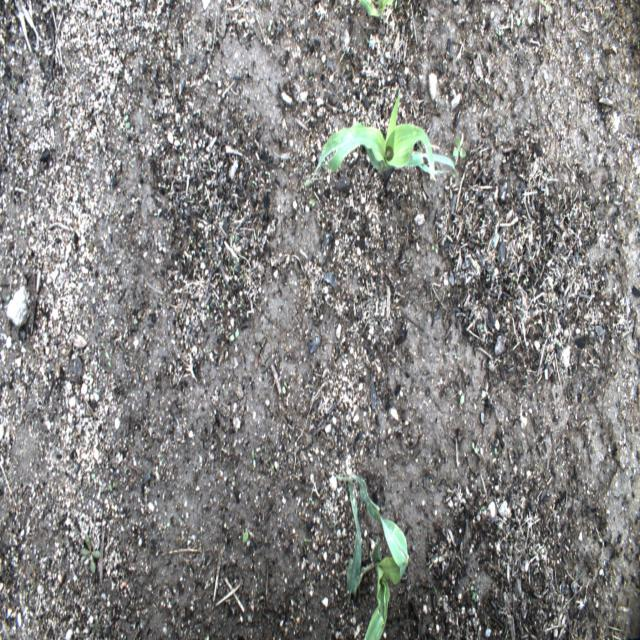crop: (305, 88, 456, 186), (341, 475, 406, 637), (355, 1, 399, 24)
weed: (78, 531, 103, 579), (452, 137, 471, 175), (242, 516, 258, 547), (120, 111, 134, 140), (456, 390, 464, 408), (250, 449, 256, 472), (471, 442, 478, 456), (493, 448, 500, 461), (283, 380, 288, 396)
